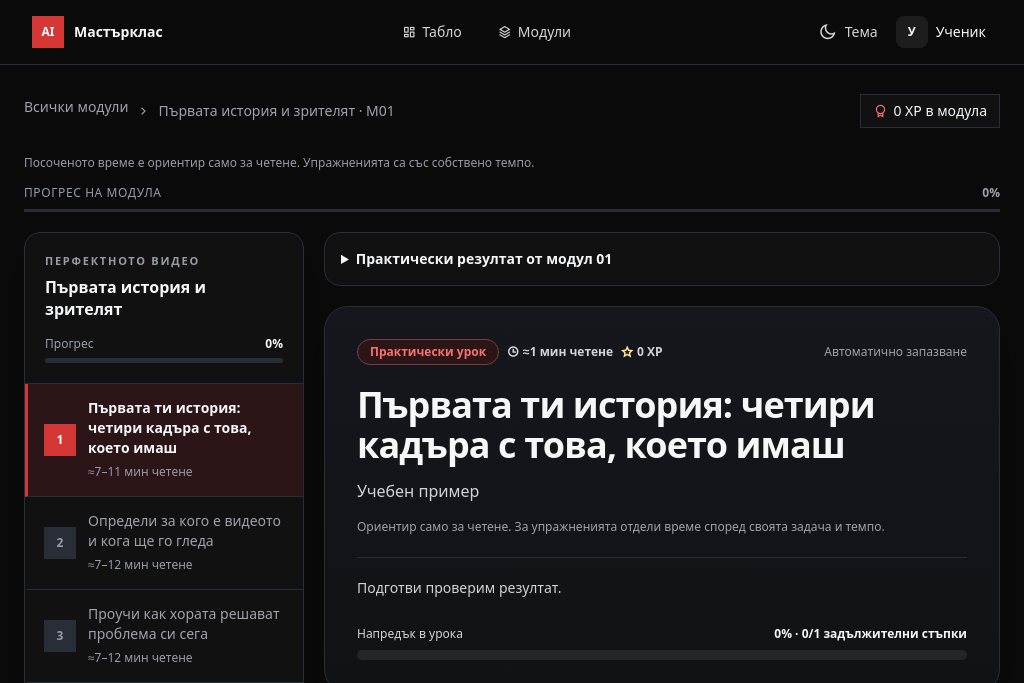
real academy lesson navigation › settles progress in s02-m01 and leaves the real lesson for the dashboard
expect the heading "Първата ти история: четири кадъра с това, което имаш" is shown: met, box [357,380,875,469]
Click the link "Табло". click: [432, 32]
box: [402,22,462,42]
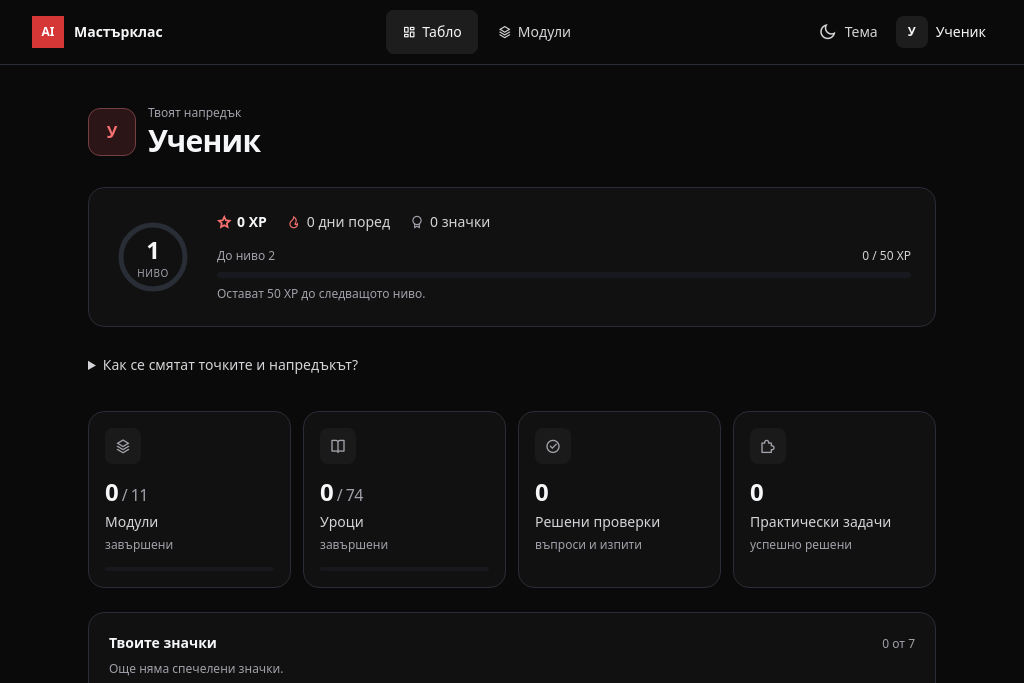
expect the heading "Ученик" is shown: met, box [148,123,260,159]
